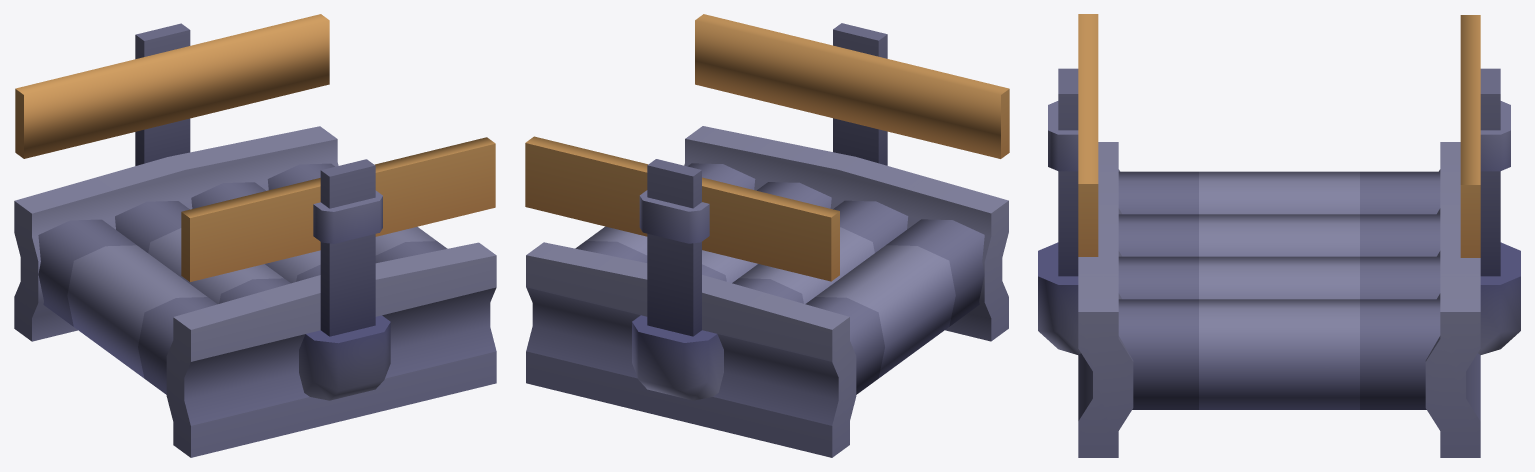
The model's file is conveyor-bars-stripe-fence.glb.
The picture shows the model from 3 angles, left to right: view 1: azimuth 30°, elevation 25°; view 2: azimuth 150°, elevation 25°; view 3: azimuth 270°, elevation 25°; orthographic projection. The views are drawn at different scales.
Visible parts, largest first — view 1: conveyor-bars-stripe-fence; view 2: conveyor-bars-stripe-fence; view 3: conveyor-bars-stripe-fence.
Boxes of the visible parts, left/top/right/bottom form: conveyor-bars-stripe-fence: left=14, top=14, right=496, bottom=457; conveyor-bars-stripe-fence: left=525, top=14, right=1009, bottom=457; conveyor-bars-stripe-fence: left=1038, top=14, right=1520, bottom=457.
Size of the model in its own units: 1.01 by 0.8 by 1.2.
